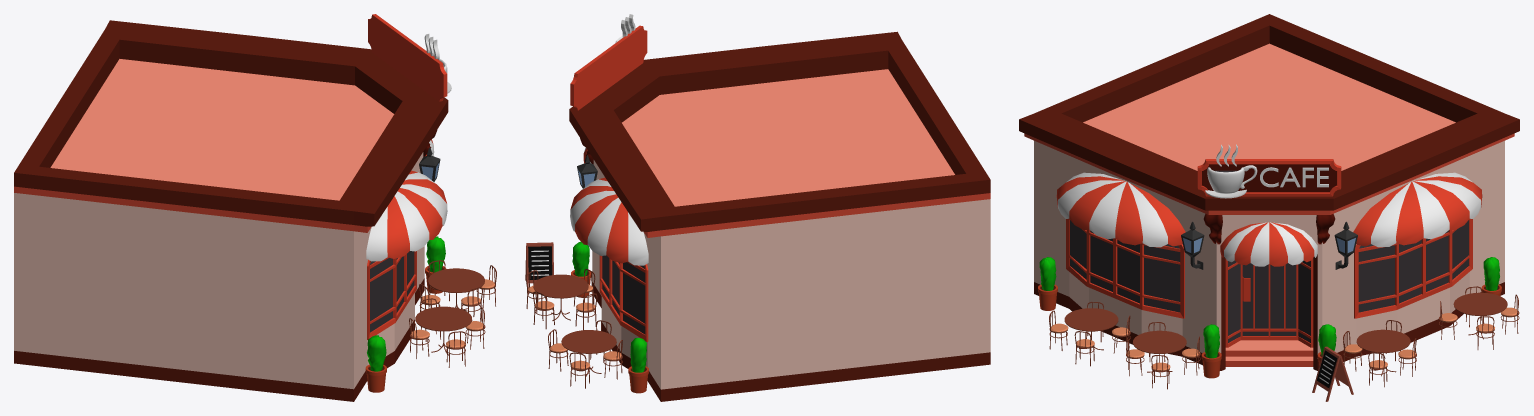
The model's file is SM_Building_Cafe.fbx.
3 renders of one model, left to right at view 1: azimuth 30°, elevation 25°; view 2: azimuth 150°, elevation 25°; view 3: azimuth 270°, elevation 25°, orthographic. The views are drawn at different scales.
Visible parts, largest first — view 1: CafeBuilding; view 2: CafeBuilding; view 3: CafeBuilding.
Part boxes in pixels (left/top/right/bottom): CafeBuilding: left=14, top=14, right=496, bottom=401; CafeBuilding: left=525, top=14, right=990, bottom=401; CafeBuilding: left=1019, top=14, right=1519, bottom=401.
Bounding box in the file's own units: 590 × 308 × 601.
1 material, 1 textured.
